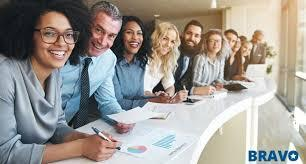No_Goggles: (93, 21, 118, 42), (125, 29, 143, 37), (162, 35, 175, 45)
